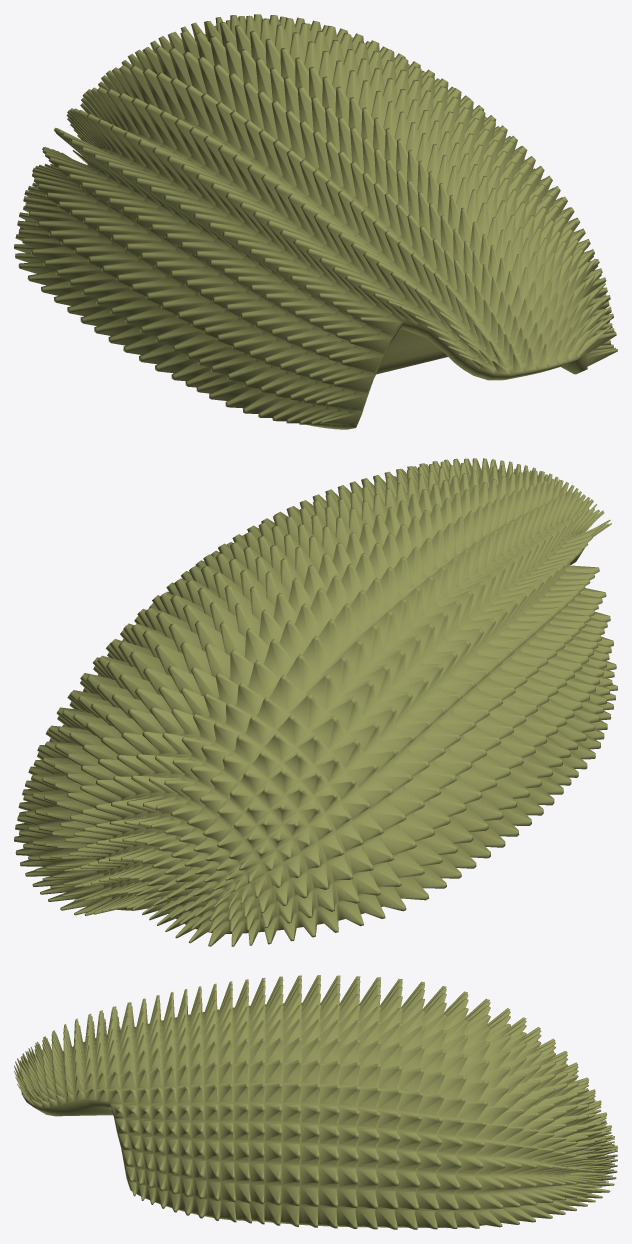
Rendered from hedgehog_spikes.obj.
3 views of the same model, one above another, from view 1: azimuth 30°, elevation 25°; view 2: azimuth 150°, elevation 25°; view 3: azimuth 270°, elevation 25° (orthographic). The views are drawn at different scales.
Parts seen in each view (by area): view 1: spikes; view 2: spikes; view 3: spikes.
Part boxes in pixels (x1=…): spikes: x1=14, y1=14, x2=617, y2=429; spikes: x1=14, y1=458, x2=617, y2=946; spikes: x1=14, y1=975, x2=617, y2=1229.
Bounding box in the file's own units: 0.1027 × 0.0633 × 0.1847.
